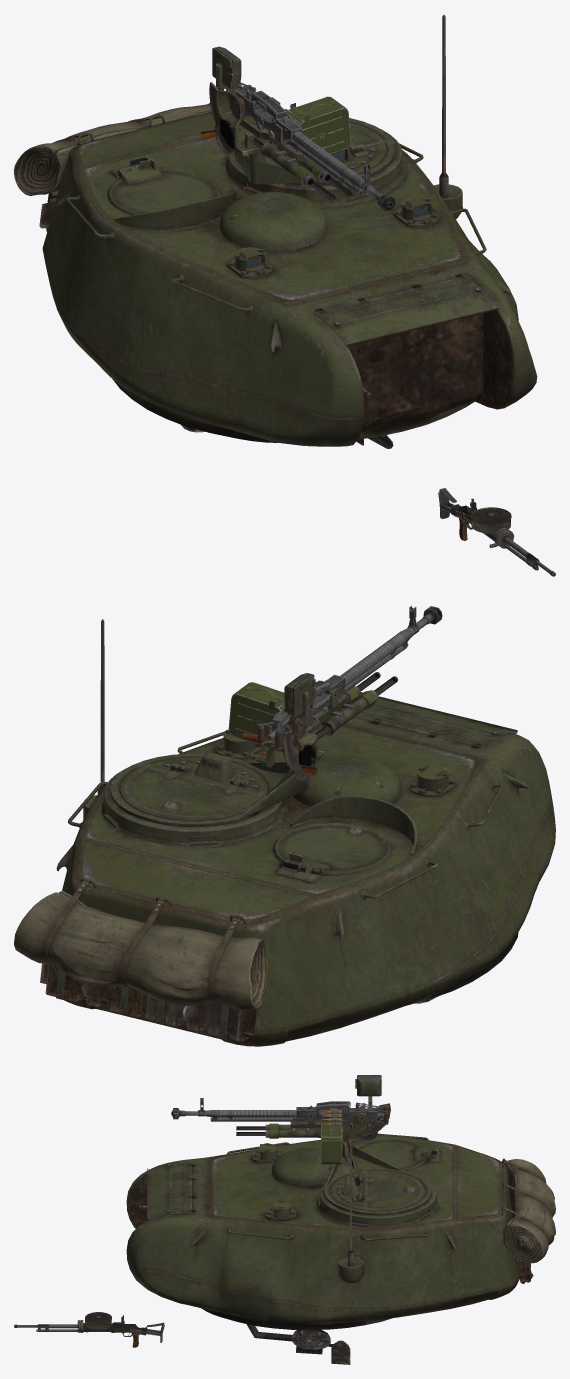
Rendered from turret-t44.glb.
The picture shows the model from 3 angles, top to bottom: view 1: azimuth 30°, elevation 25°; view 2: azimuth 150°, elevation 25°; view 3: azimuth 270°, elevation 25°; orthographic projection. The views are drawn at different scales.
Parts seen in each view (by area): view 1: Object_12, Object_13, Object_3, Object_20, Object_21, Object_2; view 2: Object_12, Object_13, Object_3, Object_20, Object_2; view 3: Object_12, Object_13, Object_3, Object_20, Object_21.
Part boxes in pixels (box(x1,y1,x2,y2)): Object_12: box(39, 109, 537, 448); Object_13: box(14, 103, 385, 215); Object_3: box(217, 66, 395, 211); Object_20: box(200, 46, 352, 200); Object_21: box(363, 388, 555, 576); Object_2: box(439, 14, 448, 197); Object_12: box(40, 692, 555, 1046); Object_13: box(14, 764, 391, 1011); Object_3: box(228, 605, 442, 751); Object_20: box(242, 672, 397, 781); Object_2: box(97, 619, 105, 794); Object_12: box(126, 1133, 533, 1364); Object_13: box(357, 1139, 555, 1263); Object_3: box(171, 1079, 388, 1164); Object_20: box(236, 1075, 390, 1165); Object_21: box(14, 1205, 164, 1347).
Size of the model in its own units: 1.88 by 1.82 by 3.57.
6 materials, 6 textured.
